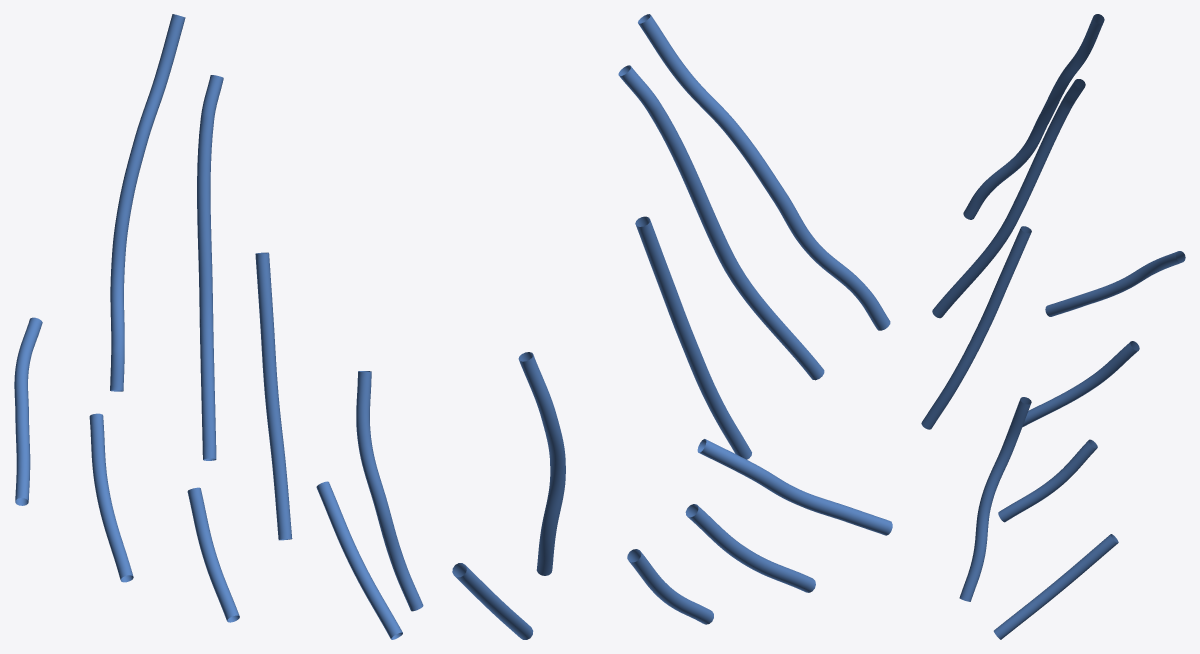
3 views of the same model, side by side, from view 1: azimuth 30°, elevation 25°; view 2: azimuth 150°, elevation 25°; view 3: azimuth 270°, elevation 25° (orthographic). The views are drawn at different scales.
Visible parts, largest first — view 1: 右侧跖骨头间静脉; view 2: 右侧跖骨头间静脉; view 3: 右侧跖骨头间静脉.
Boxes of the visible parts, bbox=[...] form: 右侧跖骨头间静脉: bbox=[14, 14, 423, 639]; 右侧跖骨头间静脉: bbox=[452, 14, 892, 639]; 右侧跖骨头间静脉: bbox=[921, 14, 1185, 639].
Bounding box in the file's own units: 0.0623 × 0.104 × 0.045.
